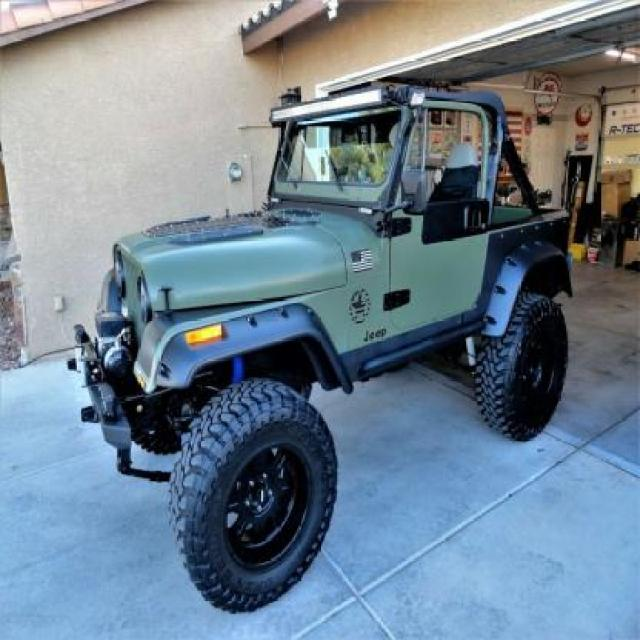Jeep: (85, 58, 581, 619)
